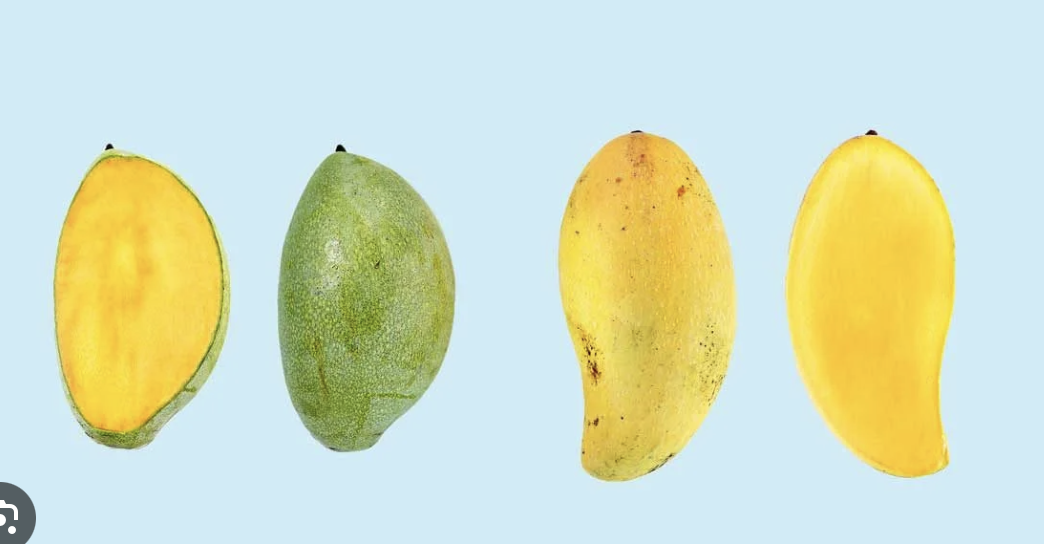mango: (536, 106, 770, 520), (781, 91, 985, 495), (33, 118, 244, 498), (253, 126, 475, 475)
